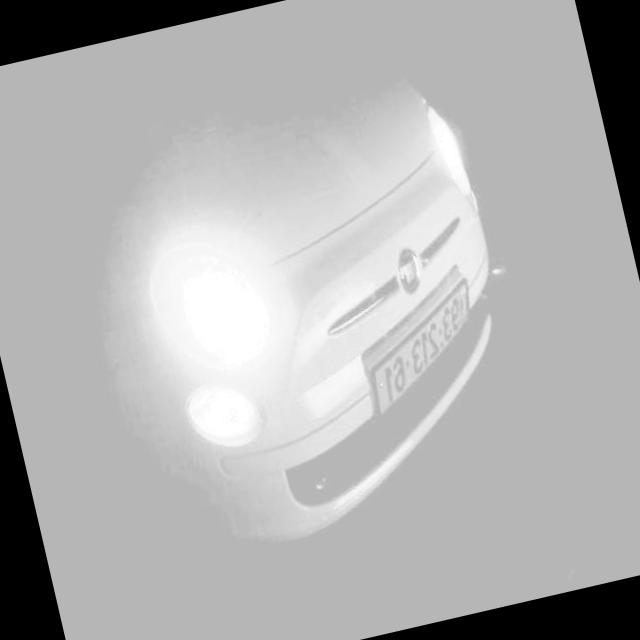Car: (0, 0, 547, 595)
